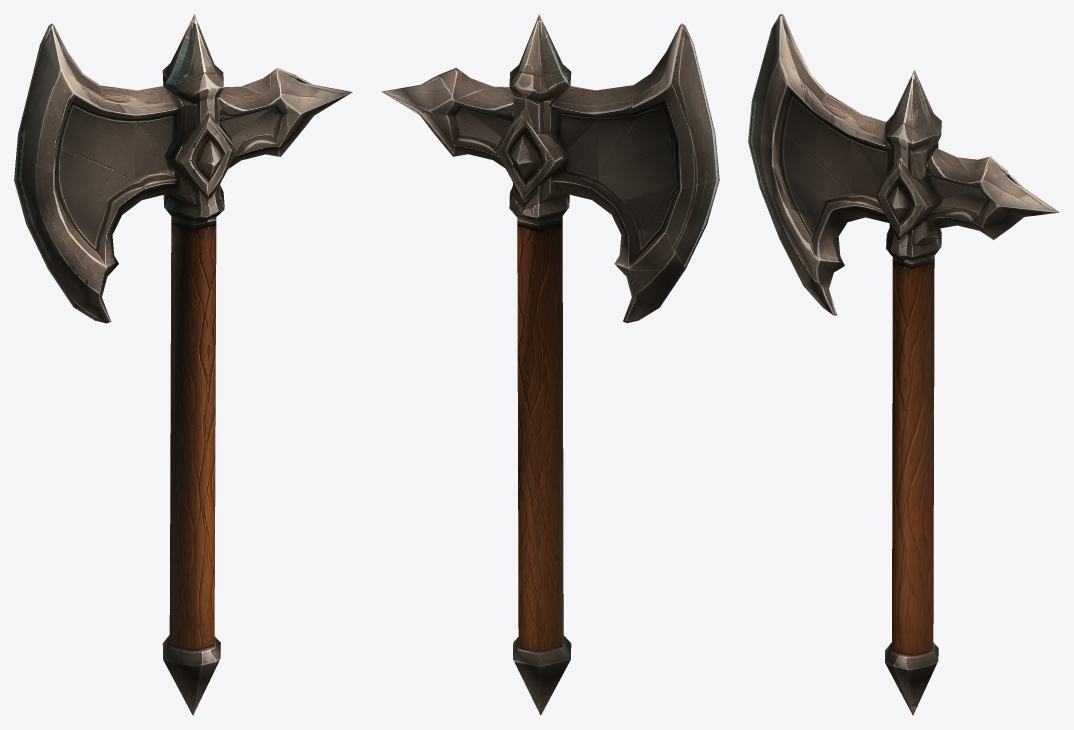
The model's file is Meshy_AI_Diamondcrest_War_Axe_0717171127_texture.fbx.
The picture shows the model from 3 angles, left to right: view 1: azimuth 30°, elevation 25°; view 2: azimuth 150°, elevation 25°; view 3: azimuth 330°, elevation 25°; orthographic projection. The views are drawn at different scales.
Parts seen in each view (by area): view 1: Mesh_0; view 2: Mesh_0; view 3: Mesh_0.
Boxes of the visible parts, <box> form: Mesh_0: <box>14,14,352,715</box>; Mesh_0: <box>382,14,719,715</box>; Mesh_0: <box>748,14,1059,715</box>.
Size of the model in its own units: 48.73 by 100 by 10.84.
1 material, 1 textured.
